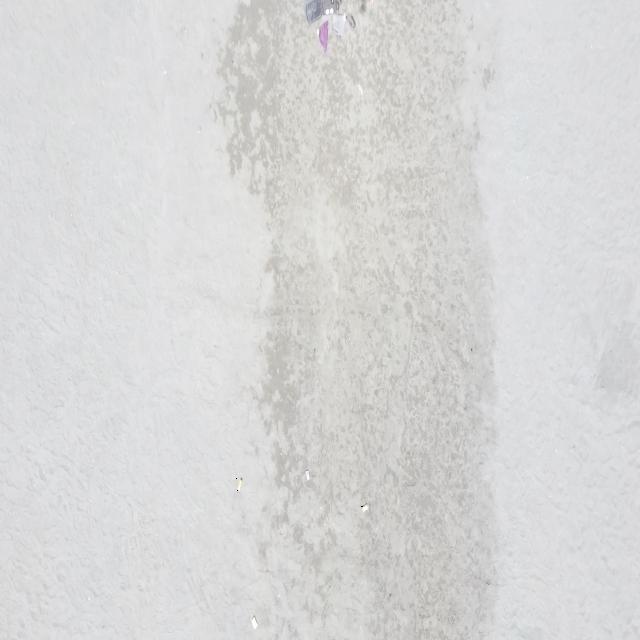Garbage: (304, 0, 353, 51), (304, 0, 339, 23), (332, 12, 346, 35), (318, 20, 327, 51), (347, 13, 355, 27), (356, 83, 363, 94), (360, 0, 366, 12), (251, 615, 256, 628), (236, 476, 240, 491), (360, 503, 367, 511), (304, 468, 308, 480)
